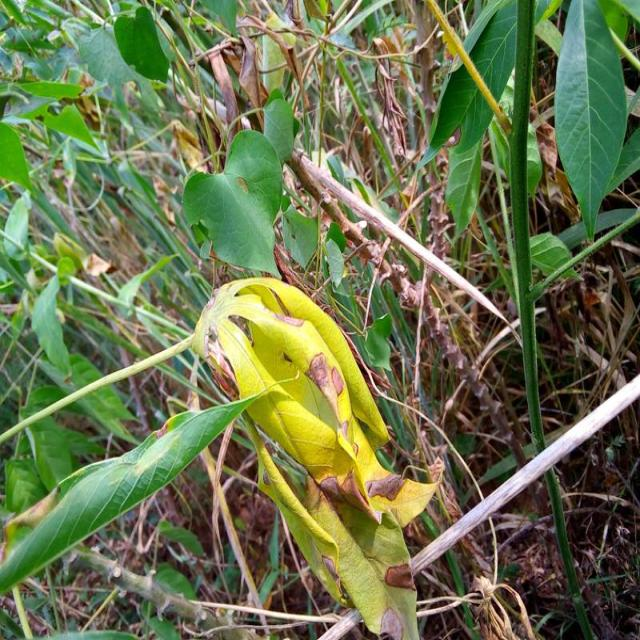cassava leaf: (196, 274, 439, 637), (0, 383, 278, 596), (553, 0, 628, 241), (181, 127, 283, 278)
